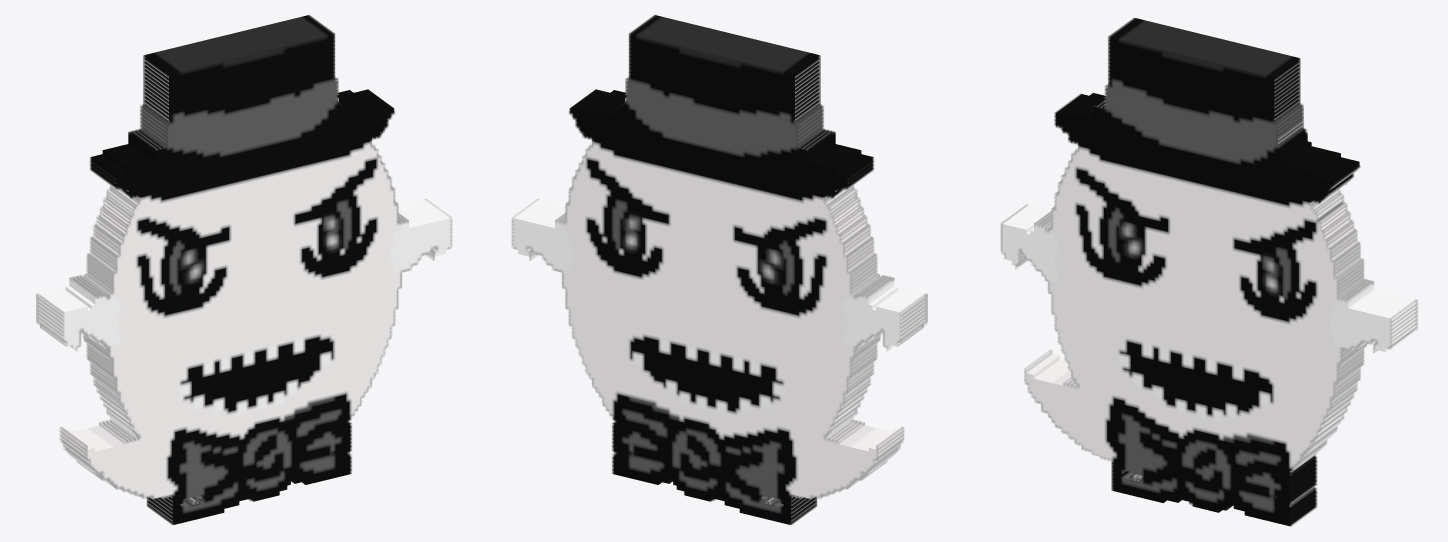
Rendered from boss_ghost.glb.
3 views of the same model, side by side, from view 1: azimuth 30°, elevation 25°; view 2: azimuth 150°, elevation 25°; view 3: azimuth 330°, elevation 25° (orthographic).
Parts seen in each view (by area): view 1: ghost_boss_voxel; view 2: ghost_boss_voxel; view 3: ghost_boss_voxel.
Part boxes in pixels (x1=…): ghost_boss_voxel: x1=36, y1=15, x2=452, y2=524; ghost_boss_voxel: x1=511, y1=15, x2=927, y2=524; ghost_boss_voxel: x1=1000, y1=18, x2=1417, y2=526.
Bounding box in the file's own units: 6.37 × 6.42 × 0.669.
1 material, 1 textured.
